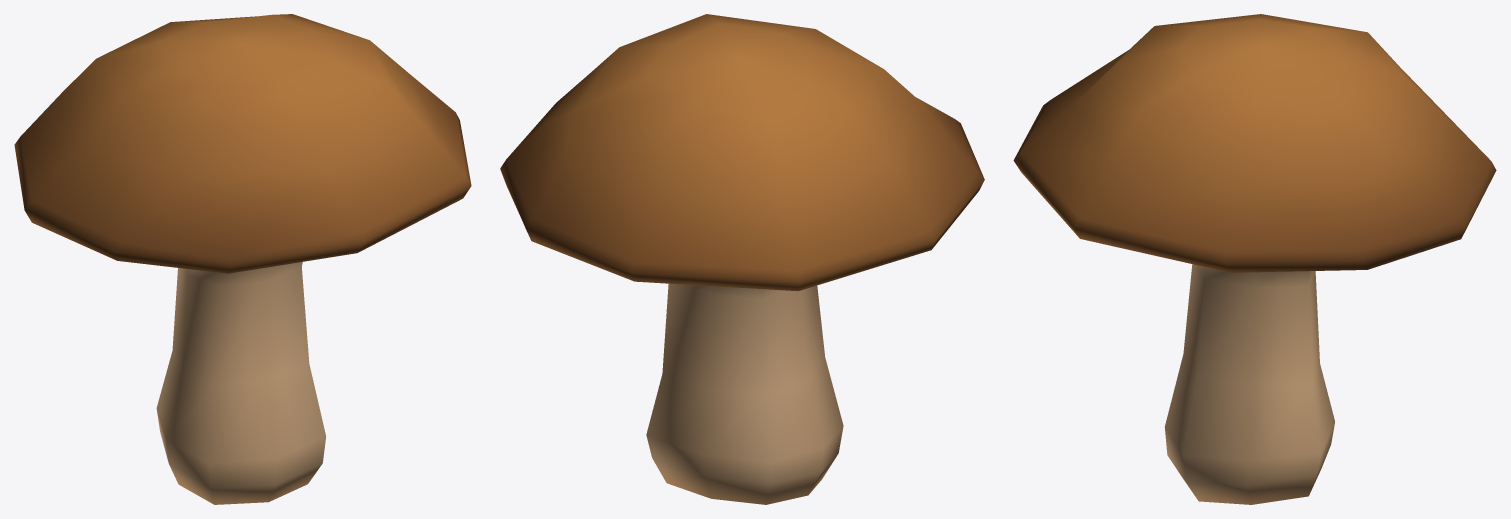
Rendered from SM_PorciniMushroom_B.fbx.
The picture shows the model from 3 angles, left to right: view 1: azimuth 30°, elevation 25°; view 2: azimuth 150°, elevation 25°; view 3: azimuth 270°, elevation 25°; orthographic projection. The views are drawn at different scales.
Parts seen in each view (by area): view 1: SM_PorciniMushroom_B; view 2: SM_PorciniMushroom_B; view 3: SM_PorciniMushroom_B.
Boxes of the visible parts, x1,y1,x2,y2 form: SM_PorciniMushroom_B: [14, 14, 471, 504]; SM_PorciniMushroom_B: [500, 14, 984, 504]; SM_PorciniMushroom_B: [1013, 14, 1496, 504].
Size of the model in its own units: 29.51 by 29.65 by 29.57.
